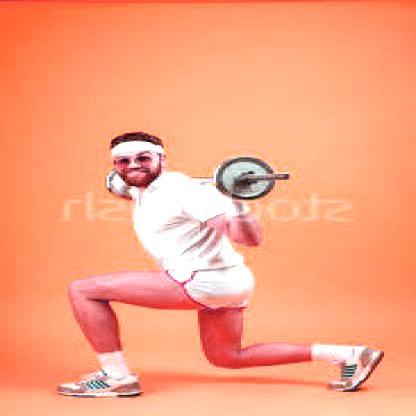Barbell: (268, 164, 299, 186)
